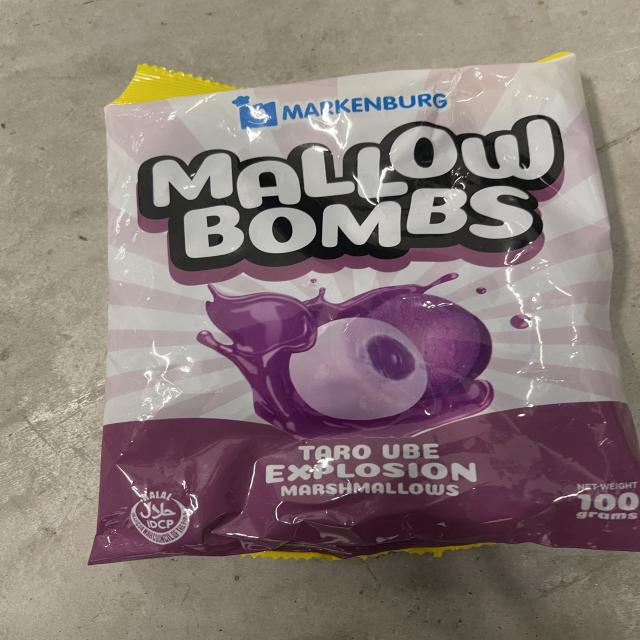object_name: (108, 86, 640, 551)
